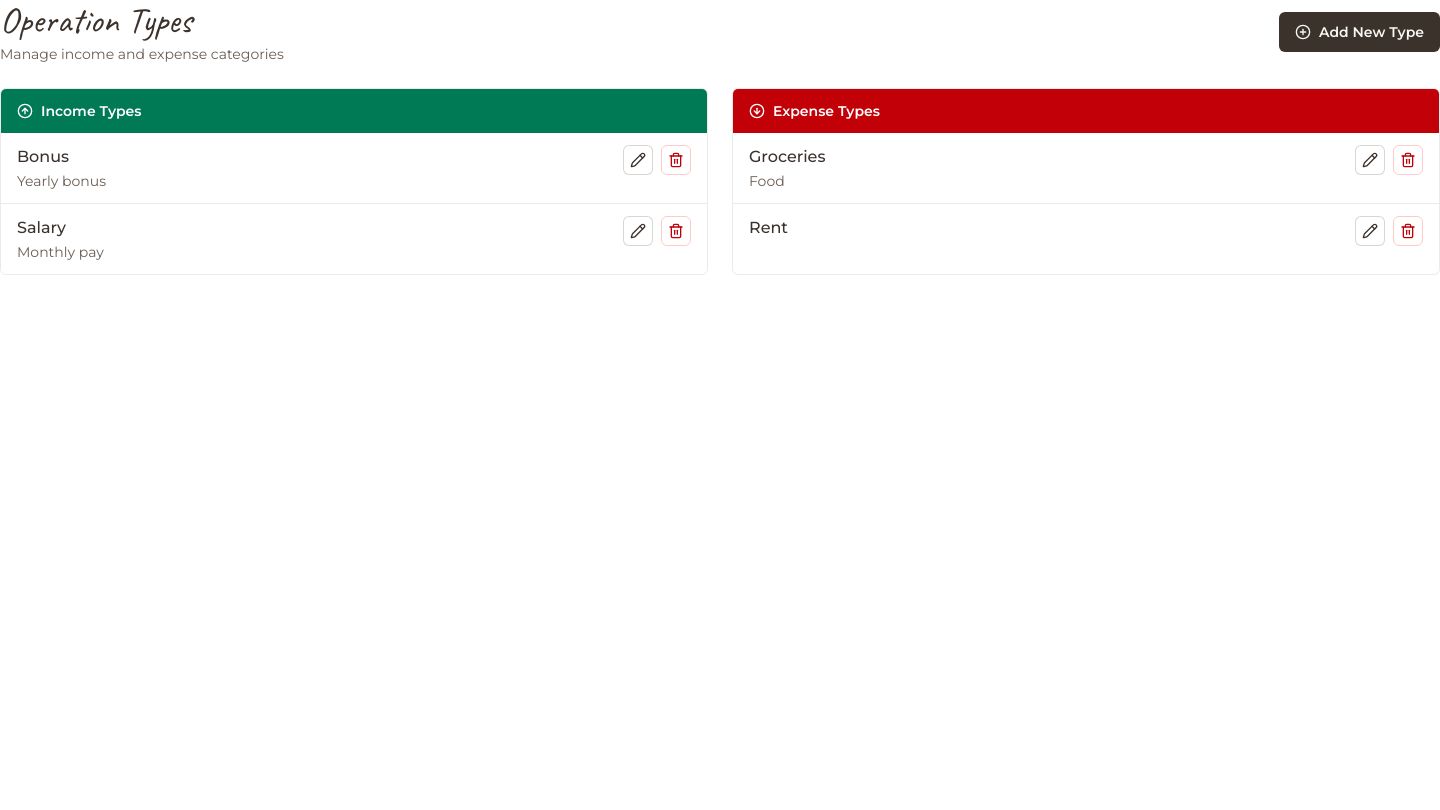
Test: OperationTypes › shows the API message when create is rejected
Expected: the text "Income Types" is shown, top-left (1, 89), bottom-right (707, 133)
Expected: the text "Expense Types" is shown, top-left (733, 89), bottom-right (1439, 133)
Click the button "Add New Type". click: (1360, 32)
box: top-left (1279, 12), bottom-right (1439, 52)
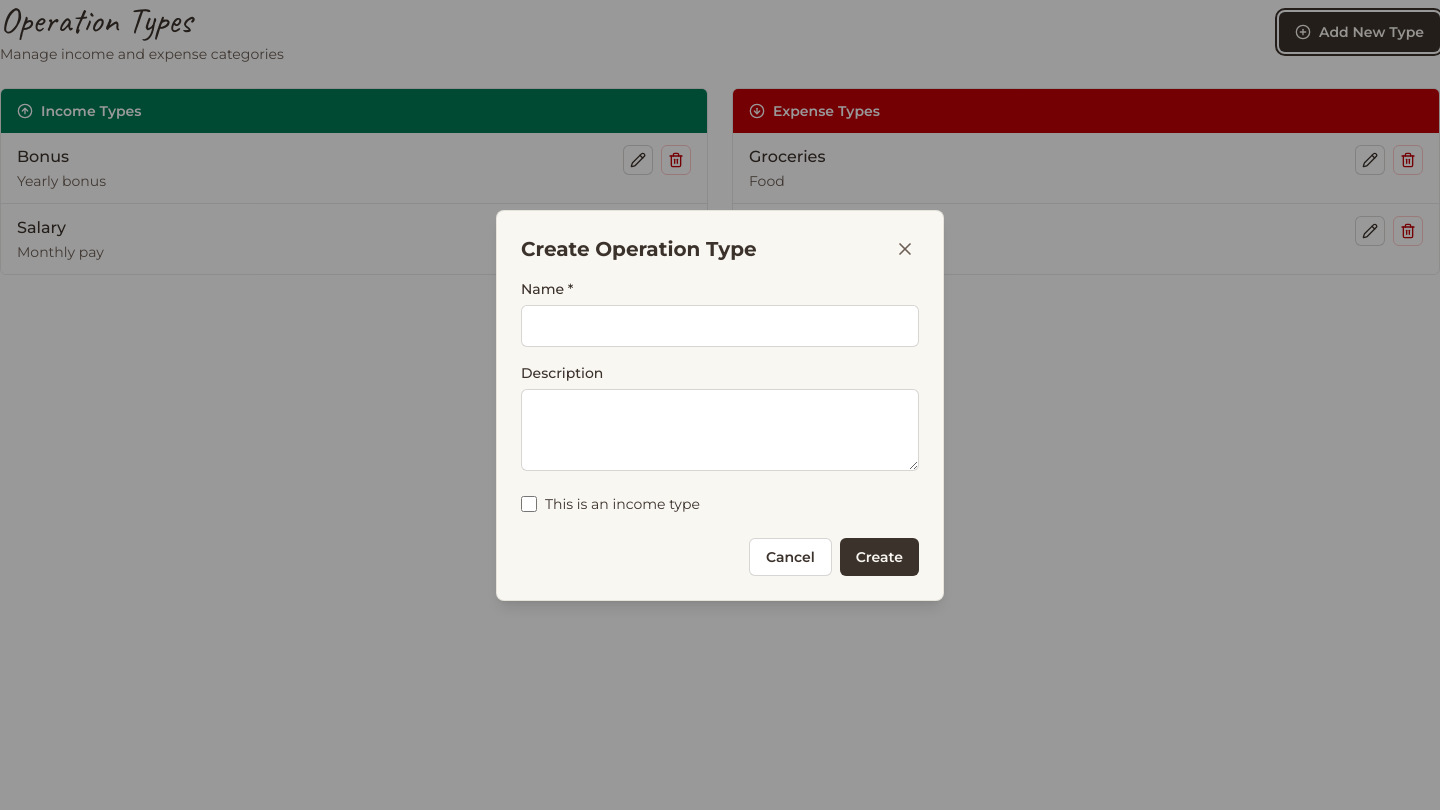
Type "Salary" into the field labelled "Name *". click: (720, 326)
box: top-left (521, 304), bottom-right (919, 346)
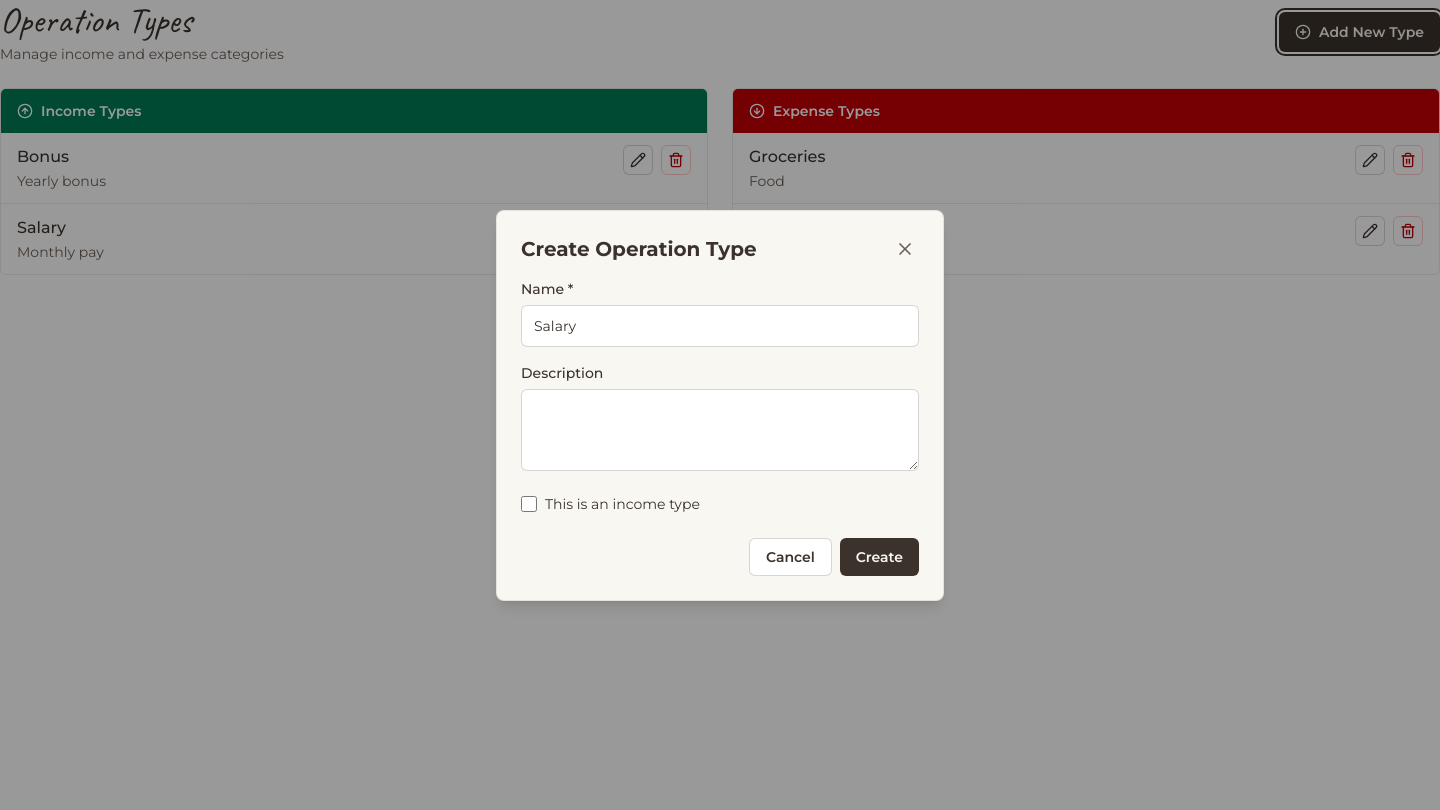
Click the button "Create". click: (879, 556)
box: top-left (840, 538), bottom-right (919, 576)
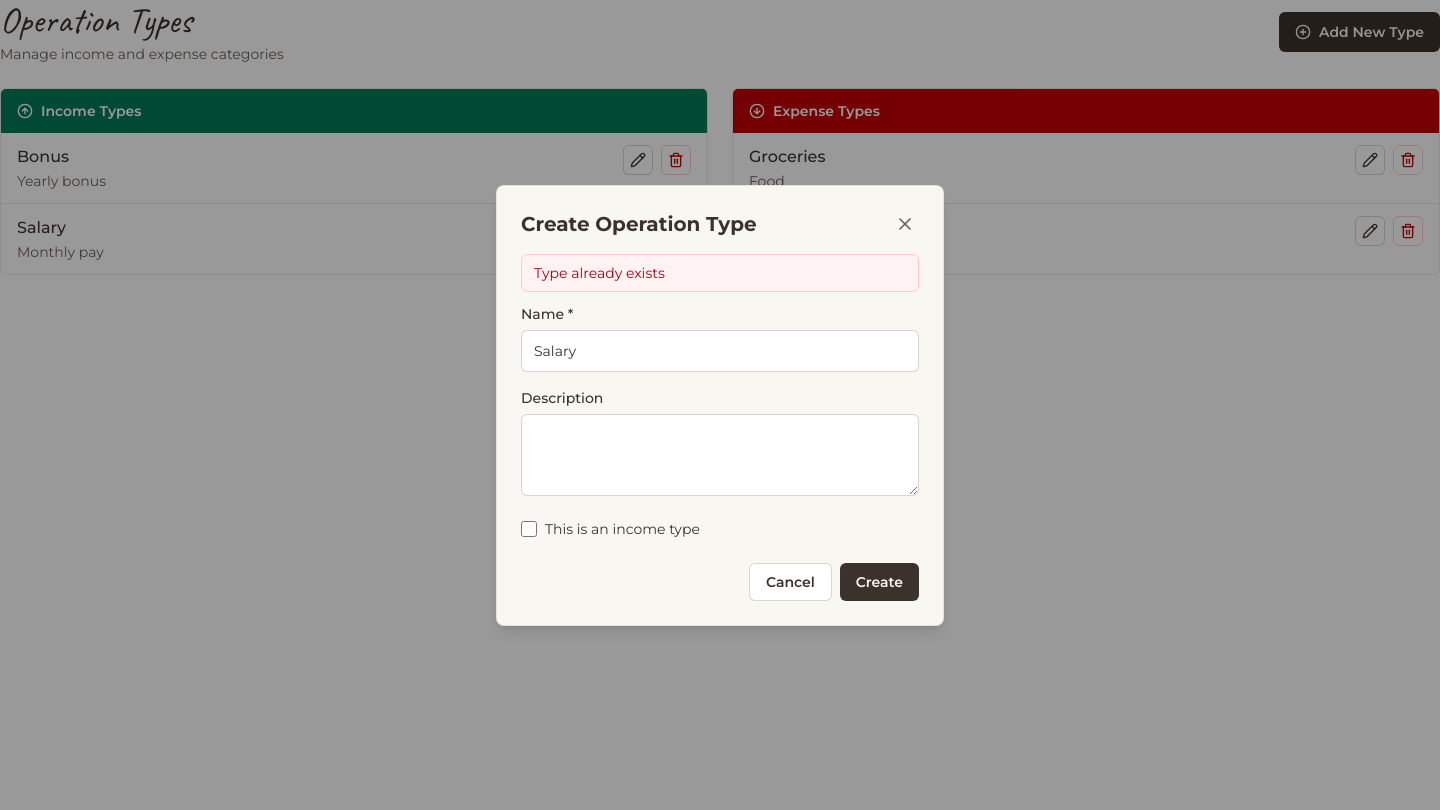
Expected: the heading "Create Operation Type" is shown, top-left (521, 210), bottom-right (757, 238)
Expected: the text "Type already exists" is shown, top-left (521, 254), bottom-right (919, 292)
